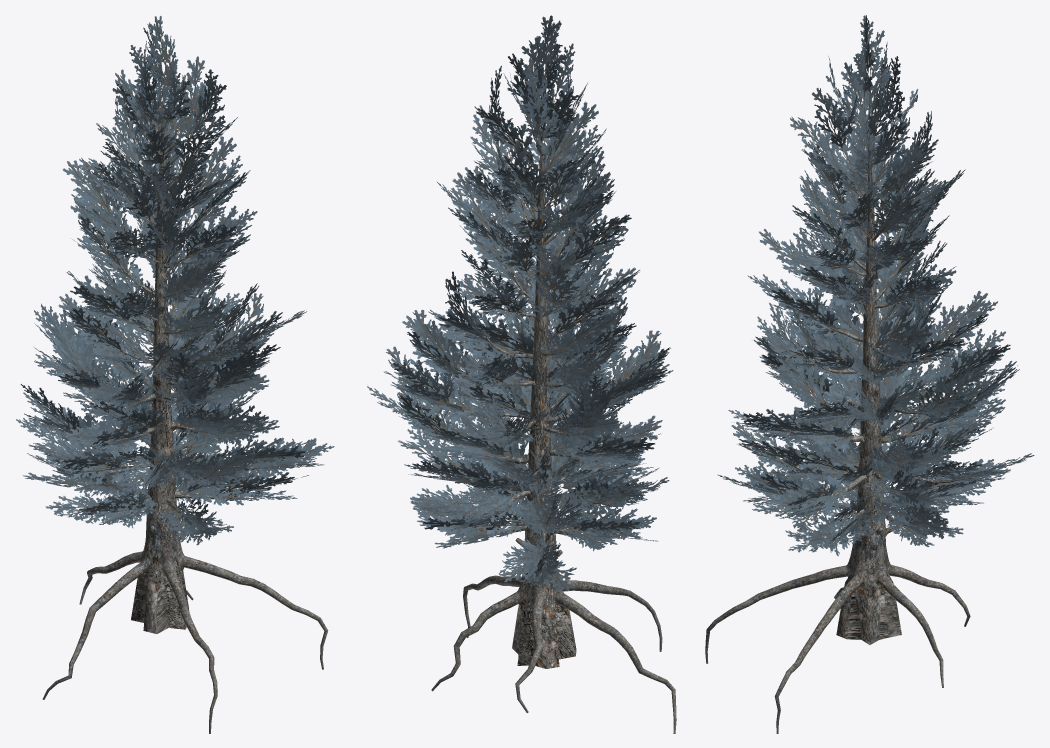
Rendered from blue_spruce_tree.glb.
The picture shows the model from 3 angles, left to right: view 1: azimuth 30°, elevation 25°; view 2: azimuth 150°, elevation 25°; view 3: azimuth 270°, elevation 25°; orthographic projection. The views are drawn at different scales.
Parts seen in each view (by area): view 1: BlueSpruce_LOD0; view 2: BlueSpruce_LOD0; view 3: BlueSpruce_LOD0.
Part boxes in pixels (box(x1,y1,x2,y2)): BlueSpruce_LOD0: box(16, 16, 334, 733); BlueSpruce_LOD0: box(367, 15, 676, 733); BlueSpruce_LOD0: box(705, 15, 1034, 733).
Bounding box in the file's own units: 7.48 × 17.64 × 7.98.
2 materials, 2 textured.
